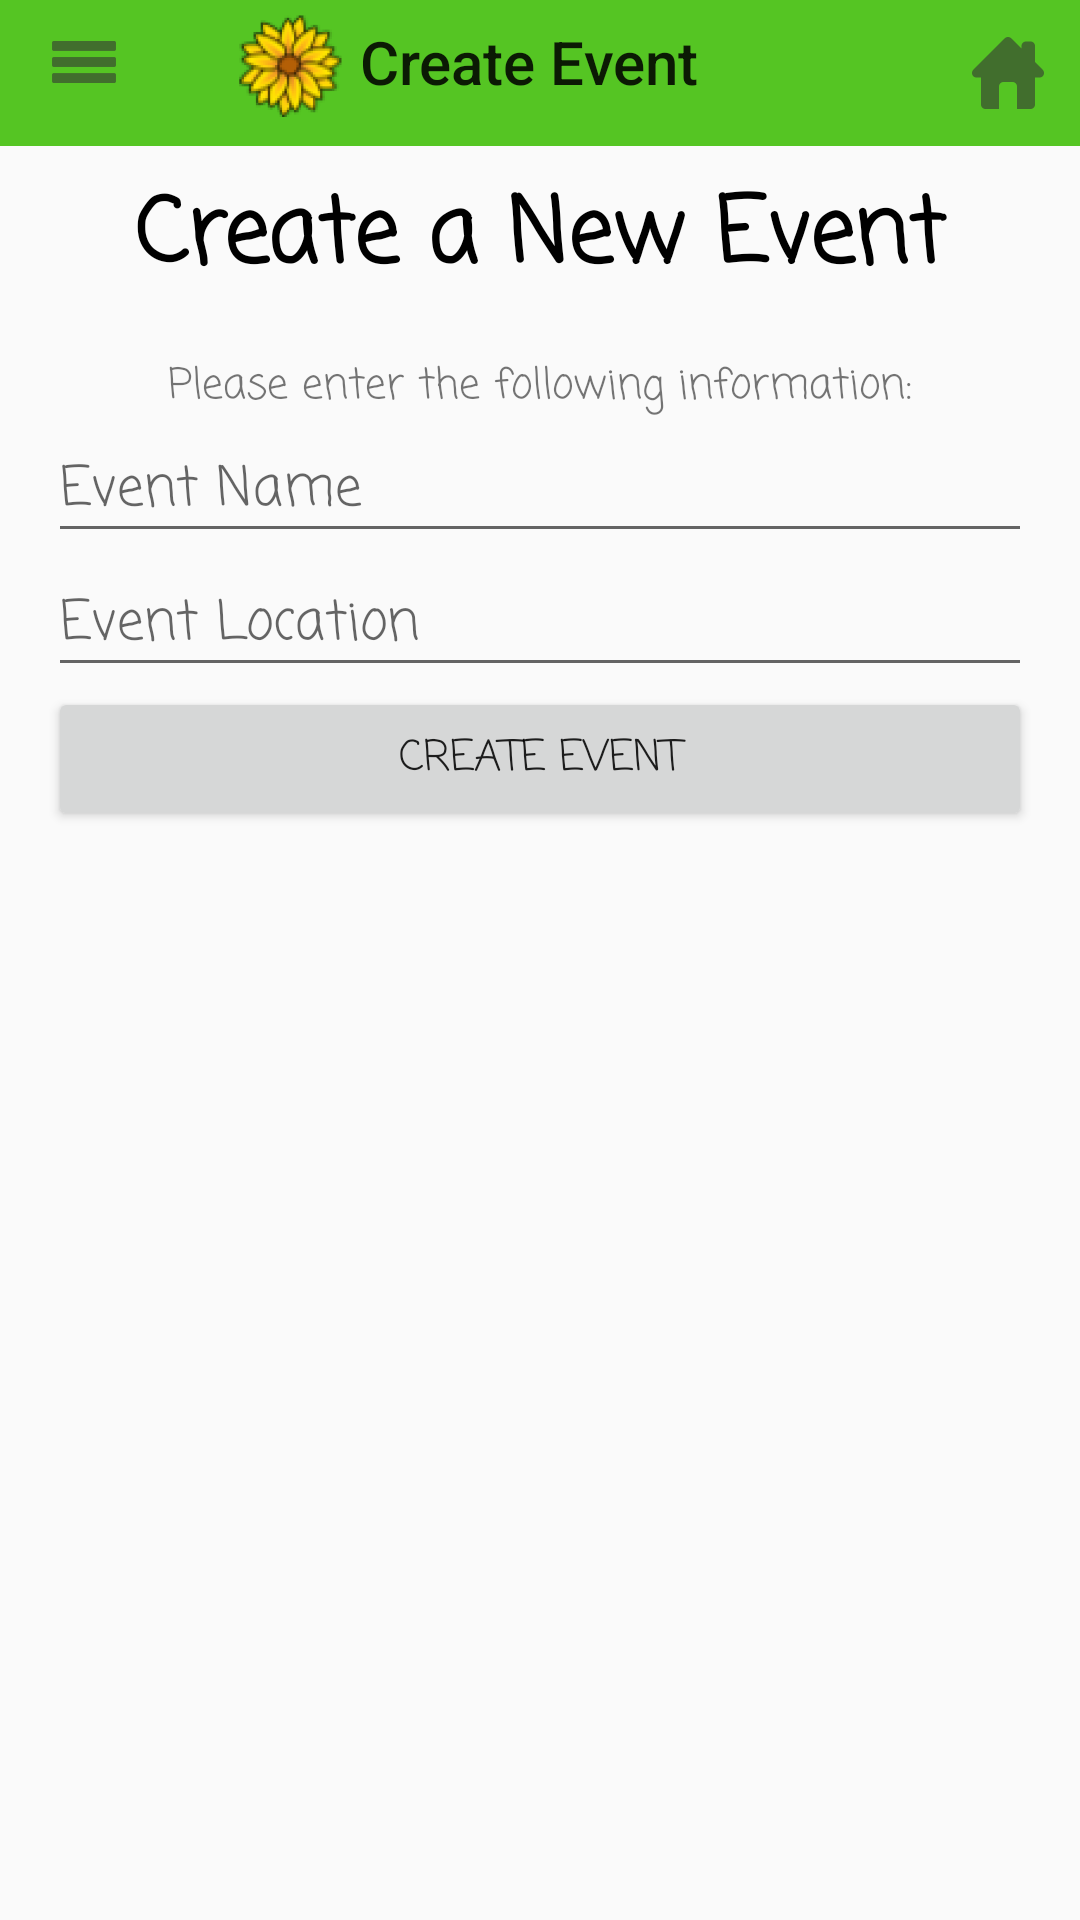

Icons on this 1080*1920 Android screen, each with its box as box(x1, y1, x2, y2):
home: box(972, 37, 1044, 109)
